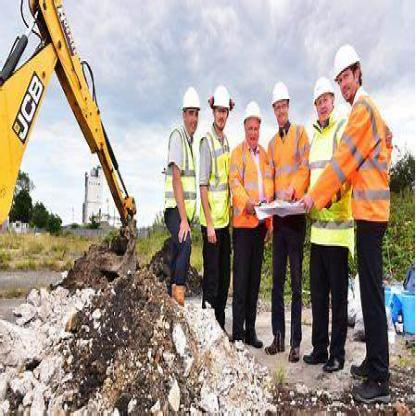person: (317, 50, 389, 401), (270, 78, 308, 355), (201, 71, 232, 375), (234, 86, 274, 314), (168, 64, 197, 314)
